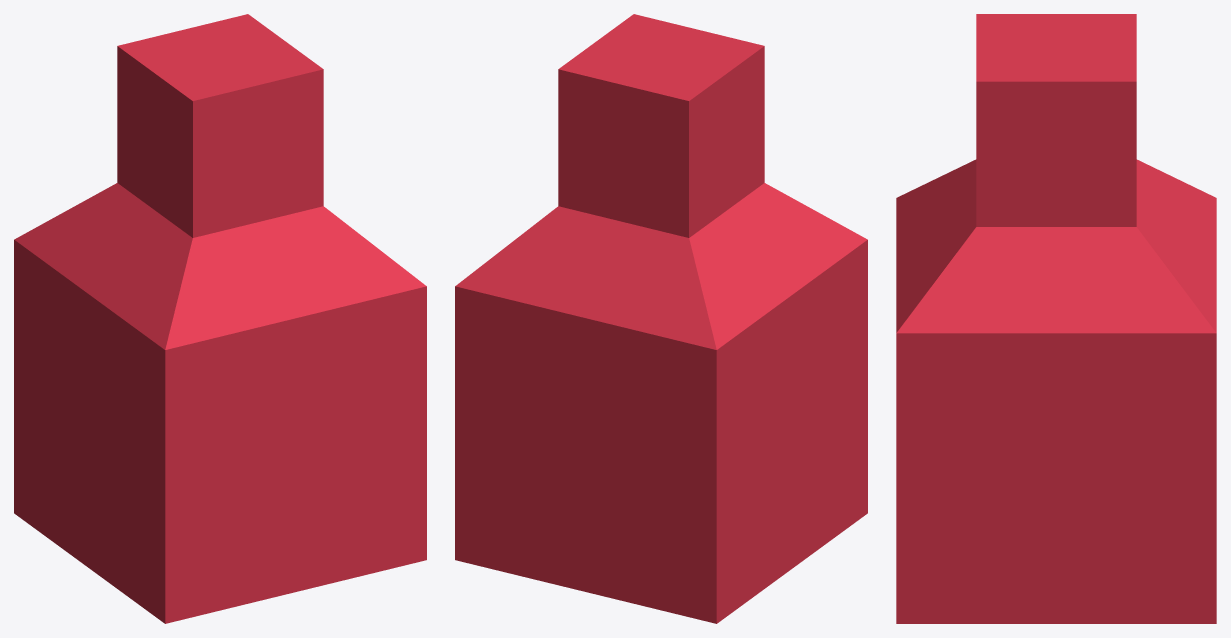
The picture shows the model from 3 angles, left to right: view 1: azimuth 30°, elevation 25°; view 2: azimuth 150°, elevation 25°; view 3: azimuth 270°, elevation 25°; orthographic projection. The views are drawn at different scales.
Parts seen in each view (by area): view 1: Cube.001; view 2: Cube.001; view 3: Cube.001.
Boxes of the visible parts, bbox=[...] form: Cube.001: bbox=[14, 14, 426, 623]; Cube.001: bbox=[455, 14, 867, 623]; Cube.001: bbox=[896, 14, 1216, 623].
Bounding box in the file's own units: 2 × 3.5 × 2.
